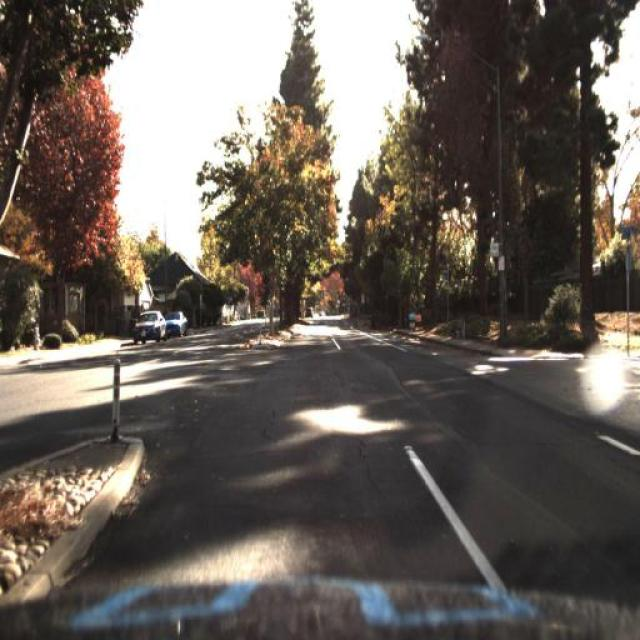car: (132, 299, 168, 347), (164, 308, 192, 343), (168, 312, 188, 339), (302, 298, 314, 324)
